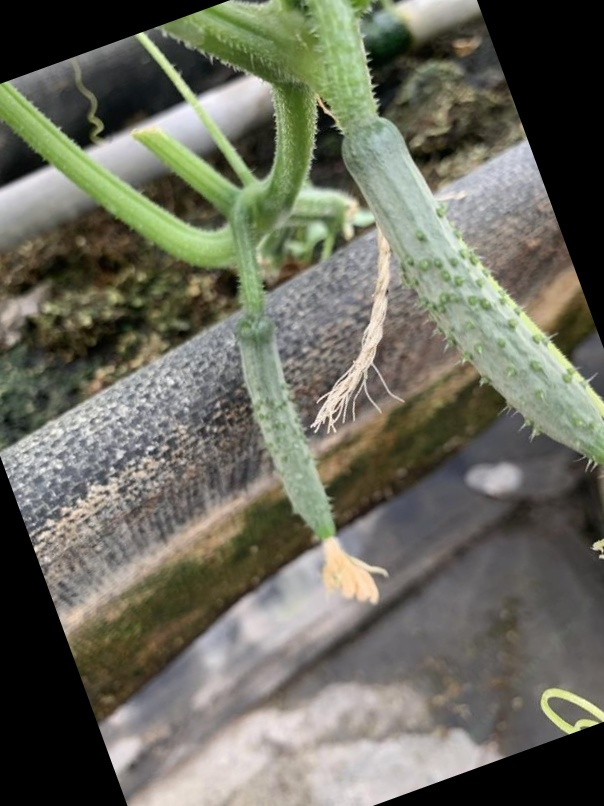bear: (222, 311, 370, 571)
growth: (333, 98, 601, 525)
